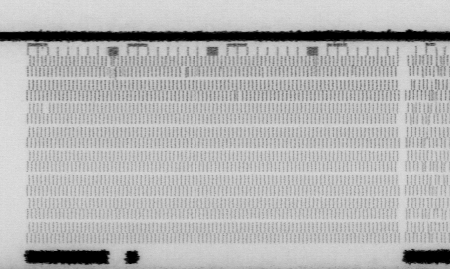Broken hole: (40, 102, 52, 114)
Oblique printing: (404, 56, 450, 124), (421, 136, 450, 174), (425, 208, 450, 232), (106, 54, 123, 80), (430, 175, 450, 197), (232, 89, 244, 101), (179, 66, 189, 77)
